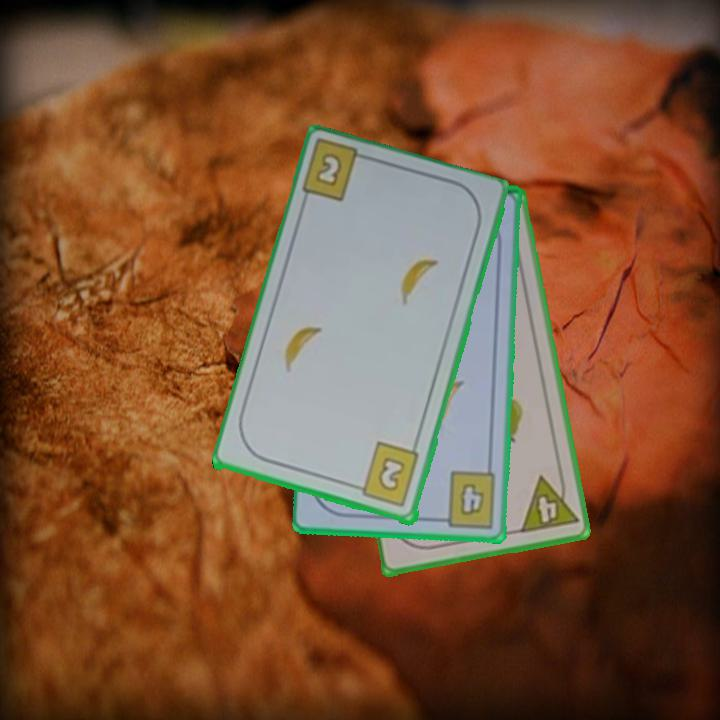2b: (350, 439, 423, 511), (312, 150, 346, 190)
4b: (433, 468, 499, 531)
4p: (516, 469, 581, 536)
